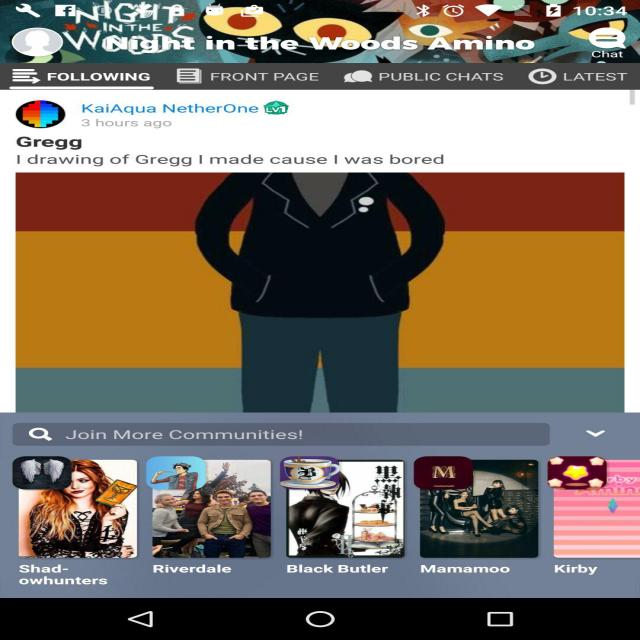button: (5, 419, 551, 447), (331, 65, 513, 87), (164, 67, 329, 86), (2, 66, 163, 84), (574, 26, 640, 64), (518, 63, 630, 85), (11, 23, 67, 61), (569, 422, 620, 443)
icon: (279, 454, 346, 492), (143, 454, 207, 491), (411, 454, 473, 491), (547, 454, 607, 490), (15, 454, 73, 490), (15, 100, 67, 129), (17, 27, 61, 56), (583, 29, 628, 50), (256, 96, 293, 119), (337, 69, 377, 86), (524, 68, 560, 84), (6, 68, 41, 83), (577, 428, 612, 442), (172, 68, 202, 84), (26, 428, 50, 440)
image: (15, 171, 629, 413), (142, 458, 273, 561), (412, 457, 540, 559), (12, 458, 139, 560), (281, 456, 407, 558), (550, 454, 640, 562)
text: (11, 153, 454, 169), (60, 428, 313, 443), (74, 101, 302, 116), (19, 563, 112, 587), (284, 560, 394, 578), (378, 71, 509, 84), (416, 561, 516, 576), (12, 132, 90, 151), (208, 72, 324, 83), (78, 117, 174, 130), (145, 562, 233, 576), (47, 72, 155, 83), (558, 71, 632, 83), (552, 564, 604, 575), (584, 49, 628, 60)
